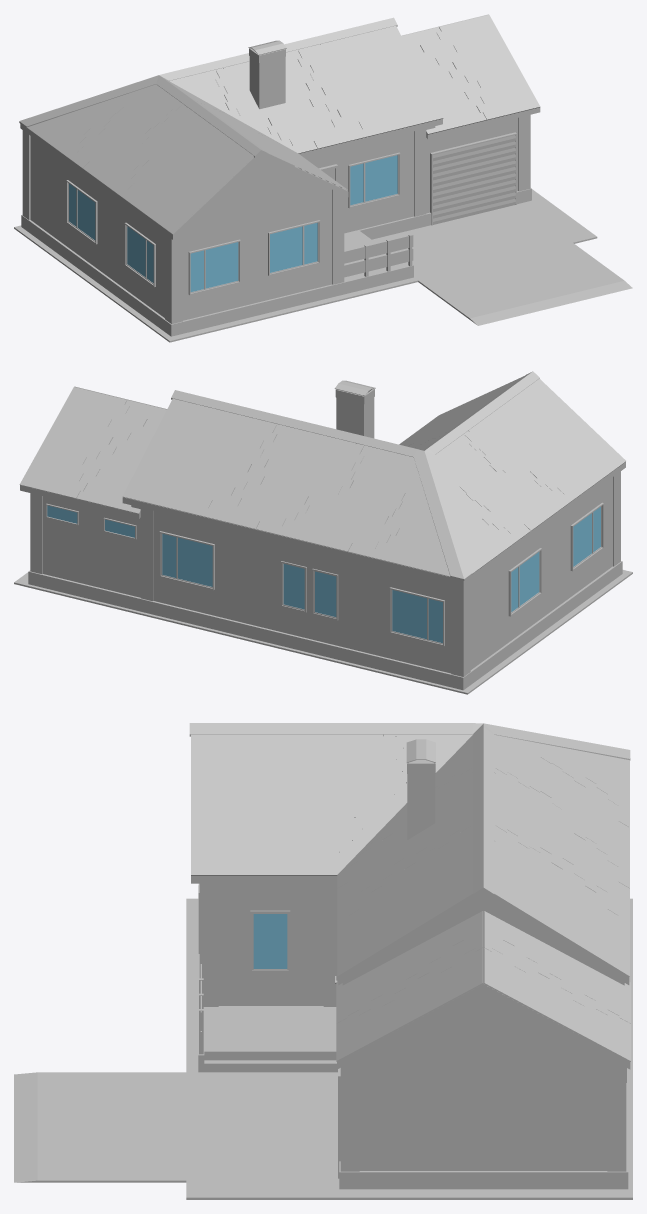
Rendered from House_06.gltf.
The picture shows the model from 3 angles, top to bottom: view 1: azimuth 30°, elevation 25°; view 2: azimuth 150°, elevation 25°; view 3: azimuth 270°, elevation 25°; orthographic projection. The views are drawn at different scales.
Visible parts, largest first — view 1: Hous_06; view 2: Hous_06; view 3: Hous_06.
Boxes of the visible parts, x1,y1,x2,y2 form: Hous_06: [14, 14, 632, 342]; Hous_06: [14, 371, 632, 694]; Hous_06: [14, 723, 632, 1199].
Bounding box in the file's own units: 15.06 × 6.5 × 13.17.
